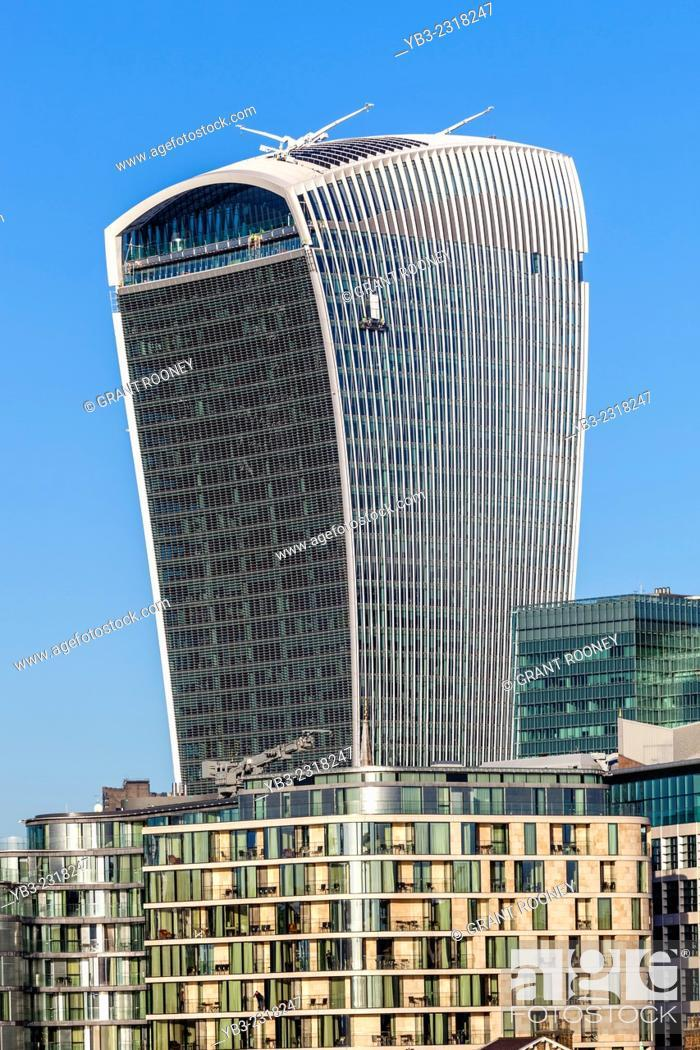Walkie talkie: (82, 112, 603, 764)
